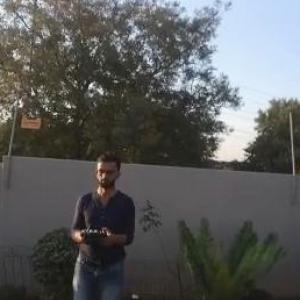follow: (64, 151, 139, 299)
